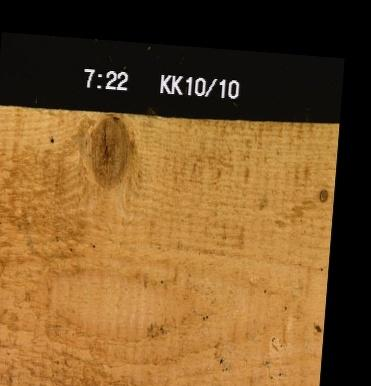dry_knot: (316, 187, 328, 202)
sound_knot: (85, 113, 130, 189)
